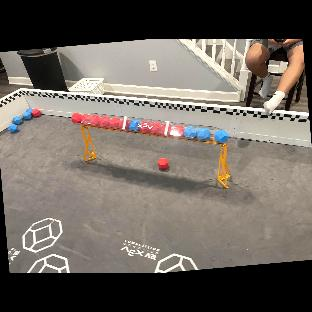V5_BLUE: (12, 117, 23, 124), (22, 114, 32, 121), (9, 125, 18, 132), (25, 108, 33, 114)
V5_RED: (156, 158, 169, 170), (30, 110, 42, 117)
blueingoal: (185, 125, 196, 140), (199, 128, 209, 142), (130, 118, 139, 133), (216, 131, 226, 143)
redingoal: (170, 124, 186, 139), (138, 121, 151, 134), (160, 123, 172, 137), (109, 117, 121, 131), (99, 116, 110, 129), (71, 112, 82, 125), (121, 118, 130, 133), (81, 114, 92, 125), (151, 122, 160, 135), (91, 115, 100, 127)
